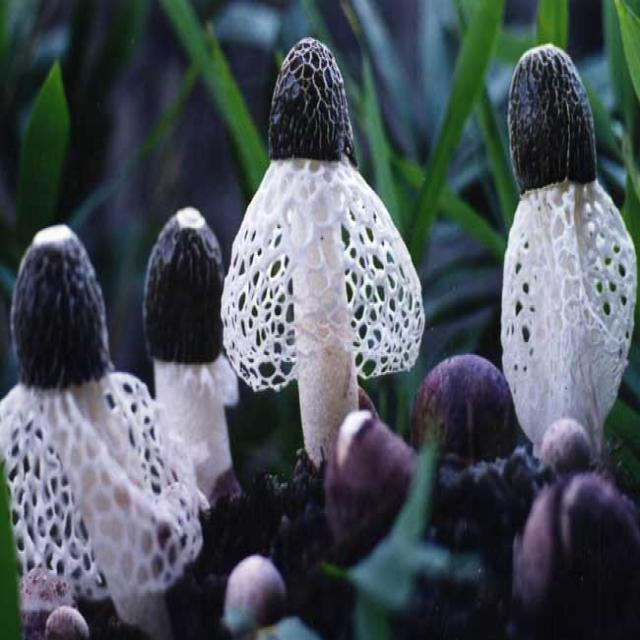Dictyophora indusiate: (218, 39, 424, 453), (0, 226, 204, 609), (500, 47, 636, 451), (142, 206, 240, 475)
